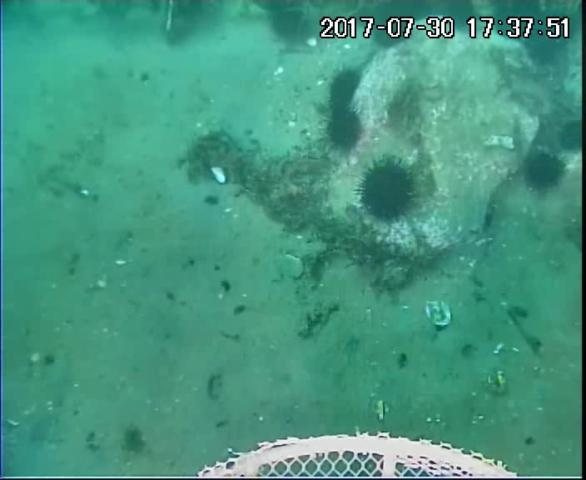echinus: (359, 160, 416, 221), (519, 147, 566, 191), (325, 111, 367, 157), (327, 70, 362, 113), (270, 9, 311, 42), (560, 118, 586, 155)
